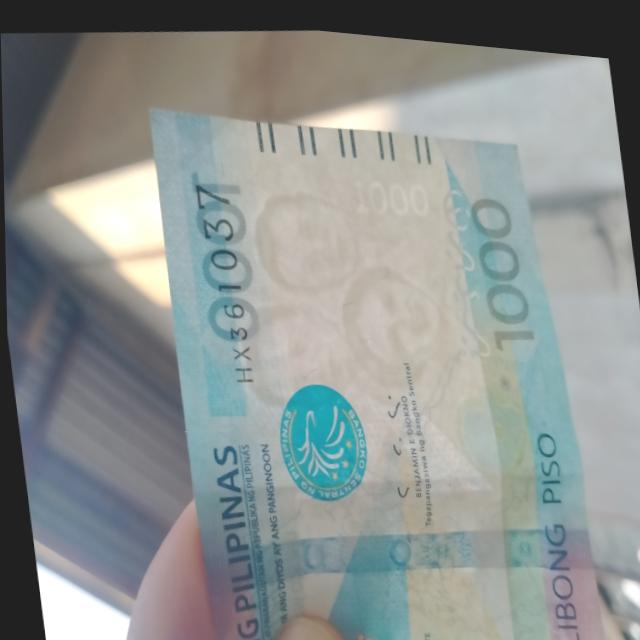security_thread: (201, 509, 590, 596)
see_through_mark: (432, 172, 495, 364)
serial_number: (191, 175, 260, 384)
value_watermark: (342, 158, 439, 223)
watermark: (217, 174, 460, 424)
